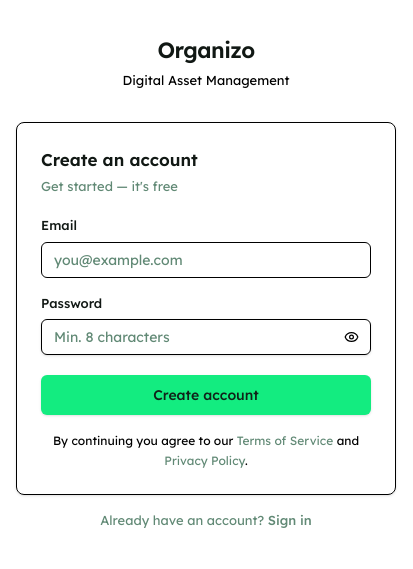
SignUpPage › validation › shows 'Email is required' when submitted with no email
This screenshot has width=413, height=569.
Click the button "Create account".
click(206, 395)  # box [41,375,371,415]
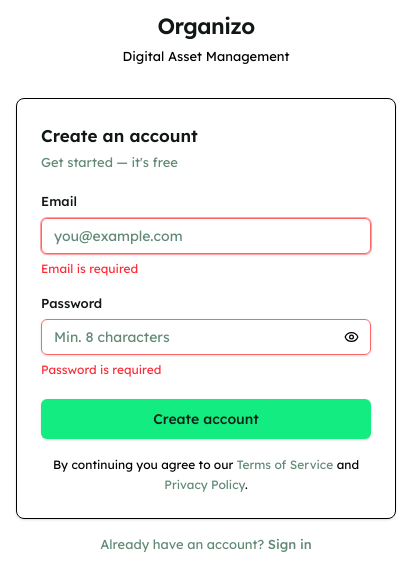
Expected: the text "Email is required" is shown, [41,260,138,276]
